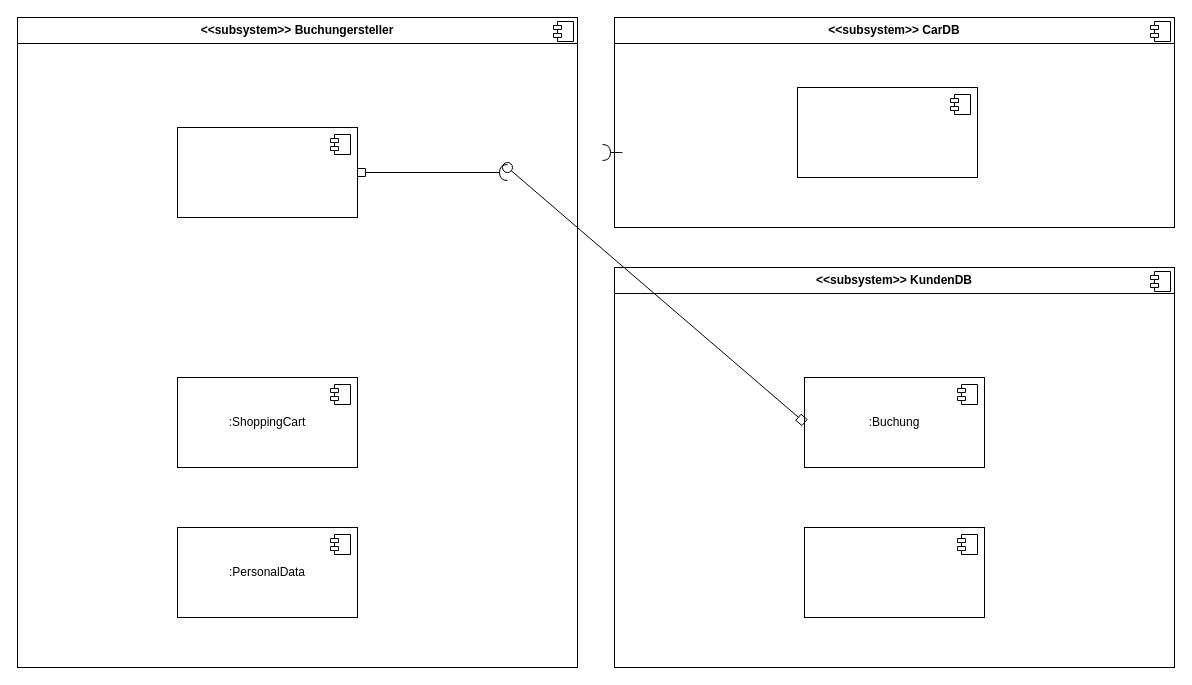
The diagram is 1192 pixels wide and 685 high, and some of its shapes have lost their labels. Here are the shapes that lost their labels. From the top down, the centre of each, then its label:
(887,132): :Auto
(267,172): :BuchungVorschlag
(894,572): :Kunden
